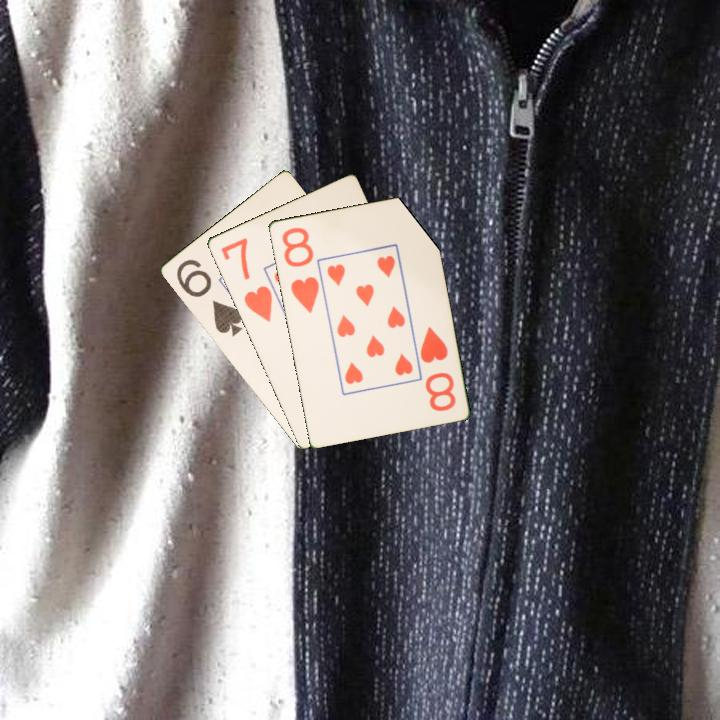6s: (172, 255, 245, 339)
7h: (217, 234, 275, 325)
8h: (278, 223, 322, 316), (416, 323, 459, 414)
